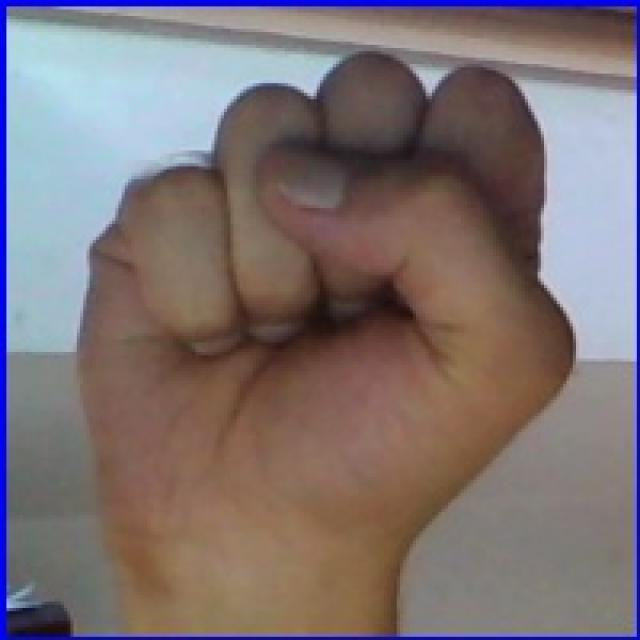Letra-S: (56, 20, 594, 588)
